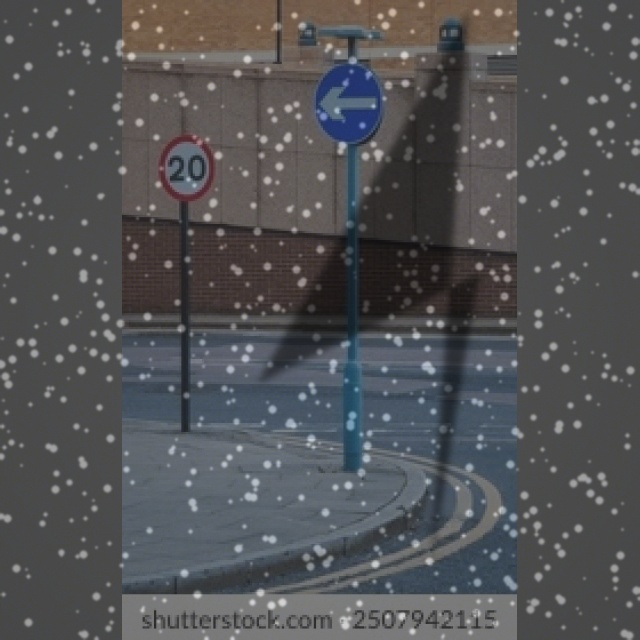Compulsory_Turn_Left: (312, 62, 386, 145)
